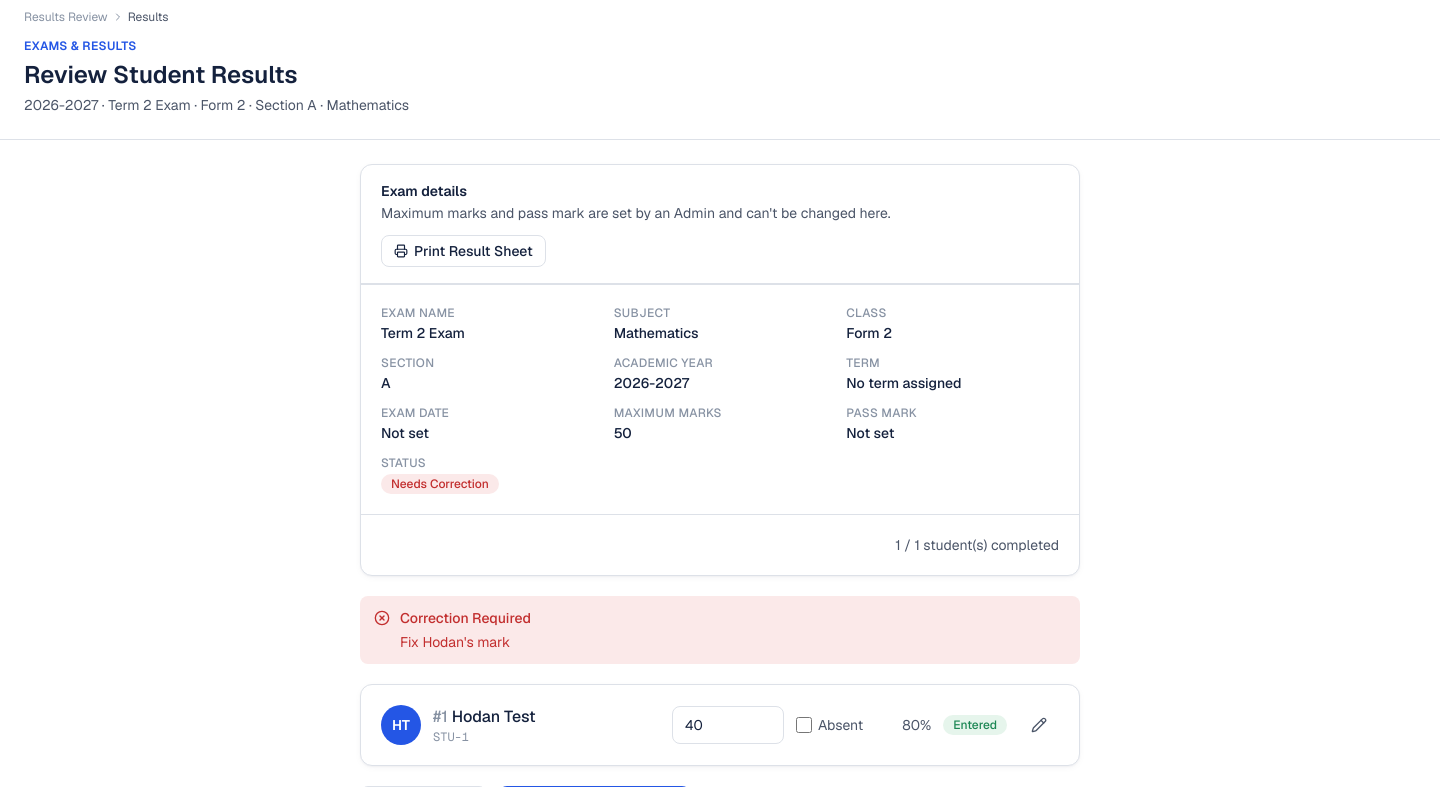
Scenario: Results page - mark validation is visible and enforced › an admin is held to the same rule as a teacher
This screenshot has width=1440, height=787.
Expected: the text "Term 2 Exam" is shown, x1=381 y1=324 x2=465 y2=342
Replace the text in the number field named "Mark for Hodan Test" with "75" at (728, 725), box x1=672 y1=706 x2=784 y2=744
(page scrolled)
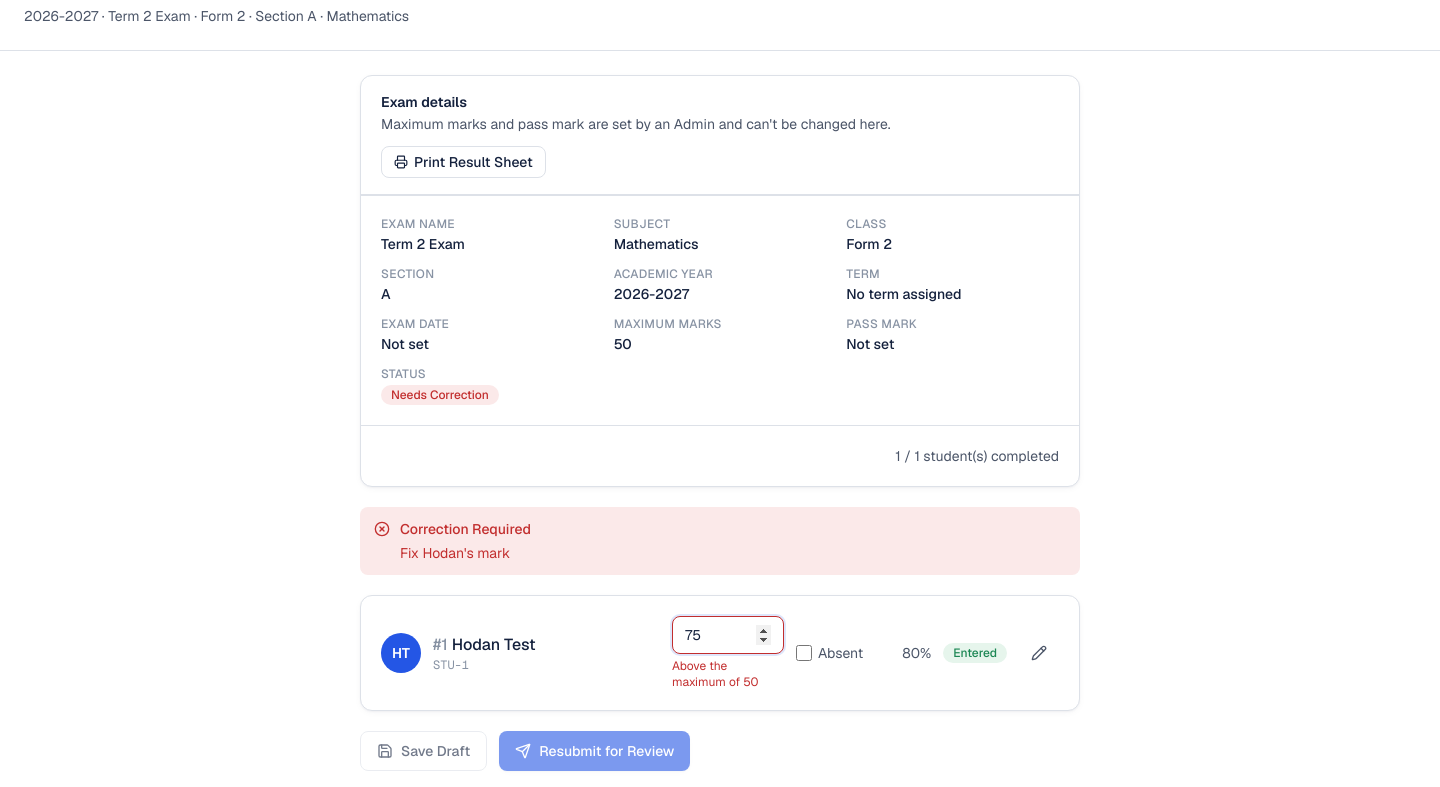
Expected: the button "Save Draft" is disabled, x1=360 y1=731 x2=487 y2=771
